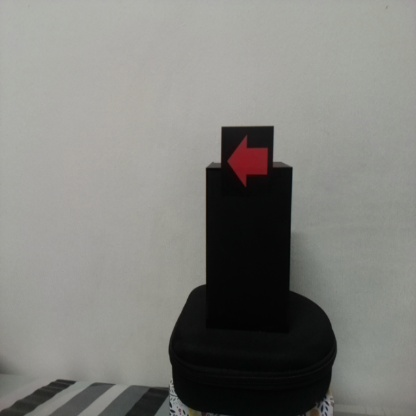id_4: (221, 126, 273, 197)
